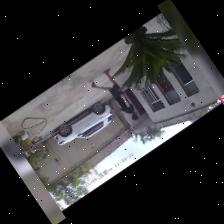person: (91, 68, 137, 119)
